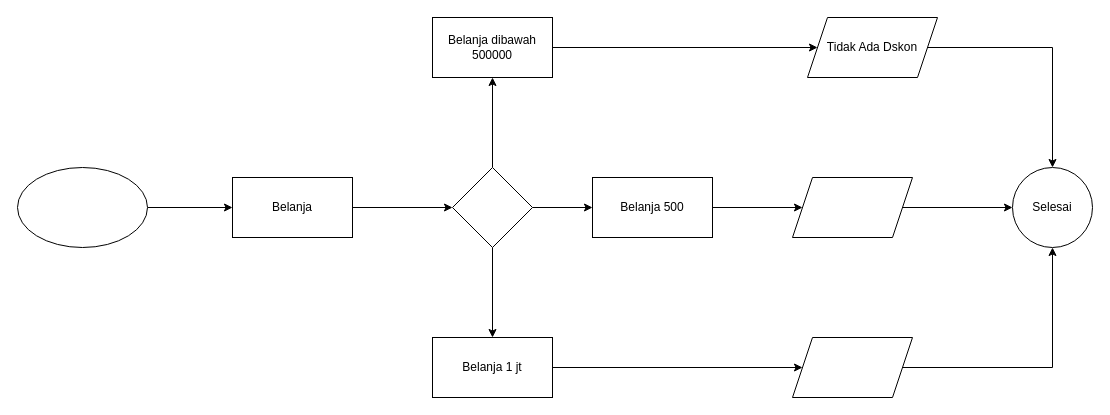
This 1110x415 diagram has some shape labels left out. The centre of each missing label's shape, as x and y in pixels:
Diskon: the point at 852,367
Diskon 5%: the point at 852,207
Mulai: the point at 82,207
